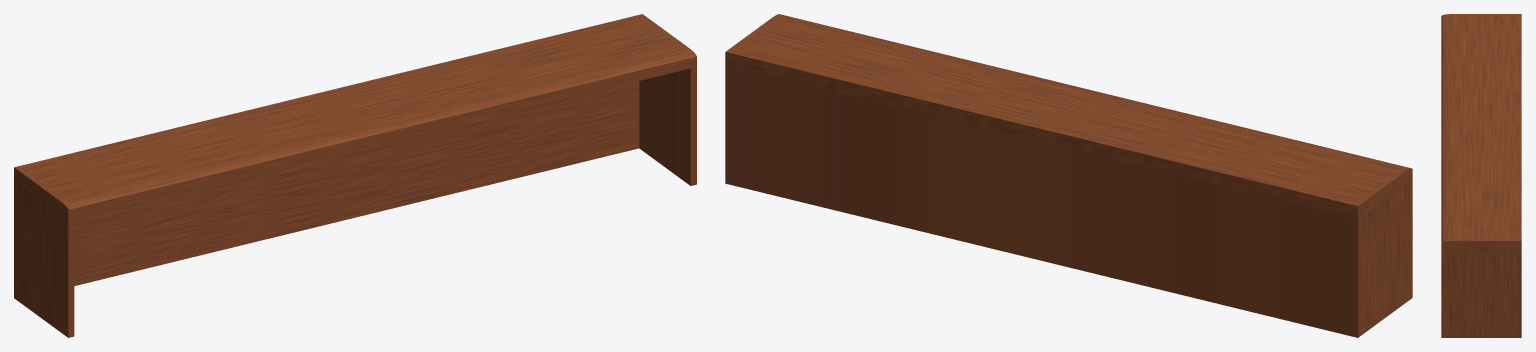
Rendered from Arbeitsplatte.fbx.
The picture shows the model from 3 angles, left to right: view 1: azimuth 30°, elevation 25°; view 2: azimuth 150°, elevation 25°; view 3: azimuth 270°, elevation 25°; orthographic projection. The views are drawn at different scales.
Visible parts, largest first — view 1: Arbeitsplatte; view 2: Arbeitsplatte; view 3: Arbeitsplatte.
Boxes of the visible parts, x1,y1,x2,y2 form: Arbeitsplatte: (14, 14, 696, 337); Arbeitsplatte: (725, 14, 1412, 337); Arbeitsplatte: (1441, 14, 1521, 337).
Size of the model in its own units: 4.5 by 0.8954 by 0.6728.
